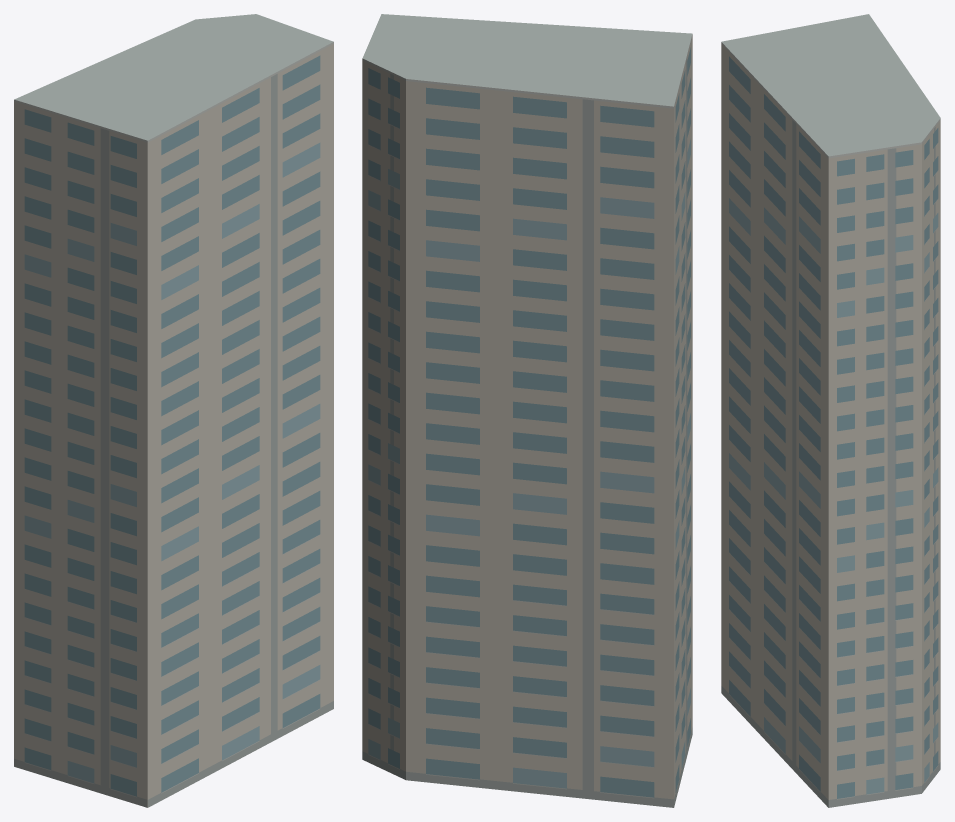
The model's file is residential-b325187f-2525-4c81-86eb-9481f813f54f.glb.
3 renders of one model, left to right at view 1: azimuth 30°, elevation 25°; view 2: azimuth 150°, elevation 25°; view 3: azimuth 270°, elevation 25°, orthographic. The views are drawn at different scales.
Visible parts, largest first — view 1: residential-b325187f-2525-4c81-86eb-9481f813f54f.tmp; view 2: residential-b325187f-2525-4c81-86eb-9481f813f54f.tmp; view 3: residential-b325187f-2525-4c81-86eb-9481f813f54f.tmp.
Boxes of the visible parts, left/top/right/bottom form: residential-b325187f-2525-4c81-86eb-9481f813f54f.tmp: left=14, top=14, right=333, bottom=807; residential-b325187f-2525-4c81-86eb-9481f813f54f.tmp: left=362, top=14, right=692, bottom=807; residential-b325187f-2525-4c81-86eb-9481f813f54f.tmp: left=721, top=14, right=940, bottom=807.
Bounding box in the file's own units: 38 × 81 × 24.74.
